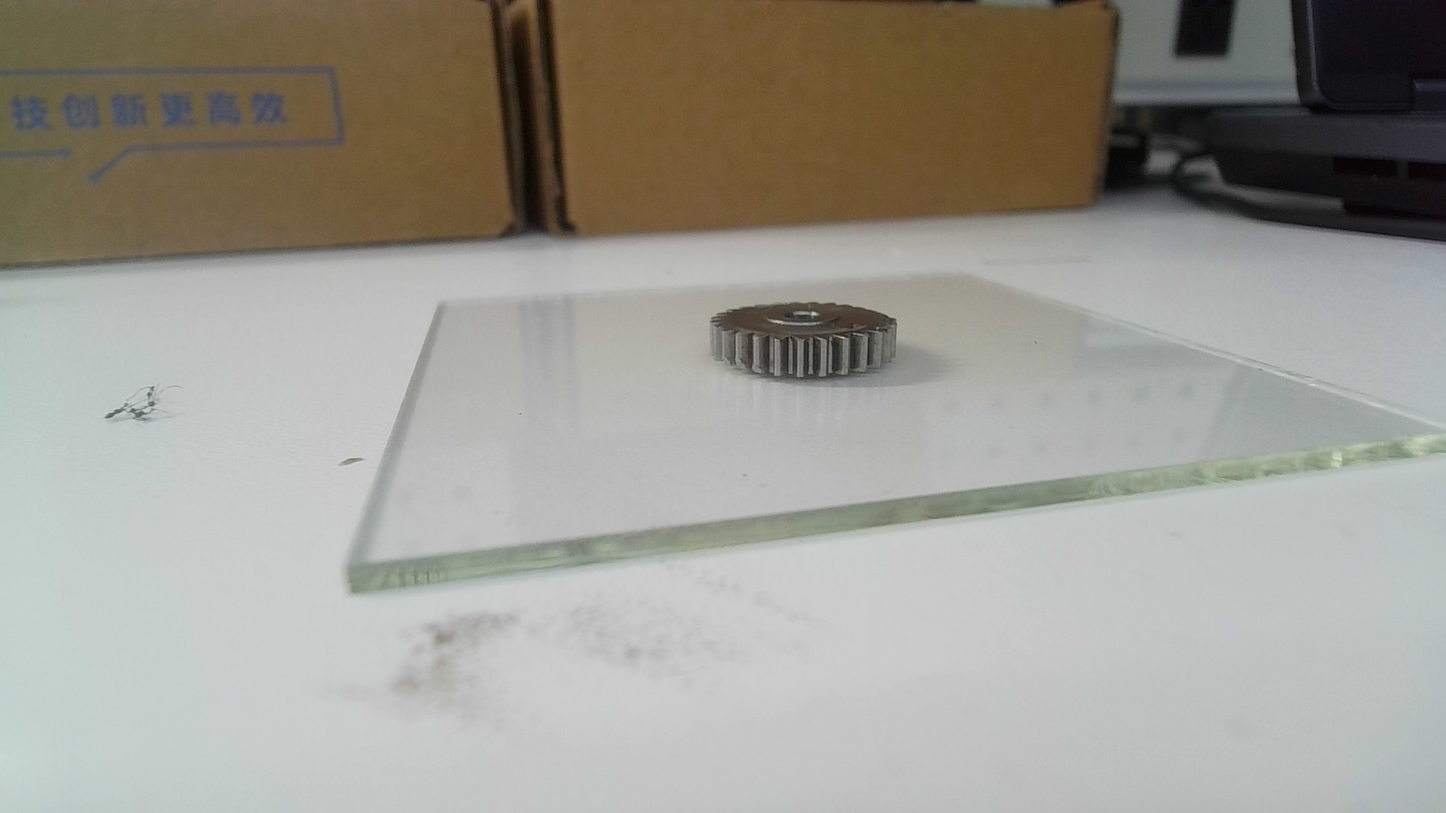gear: (705, 299, 903, 383)
